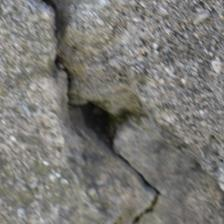Crack: (26, 29, 138, 102), (17, 37, 87, 131)
